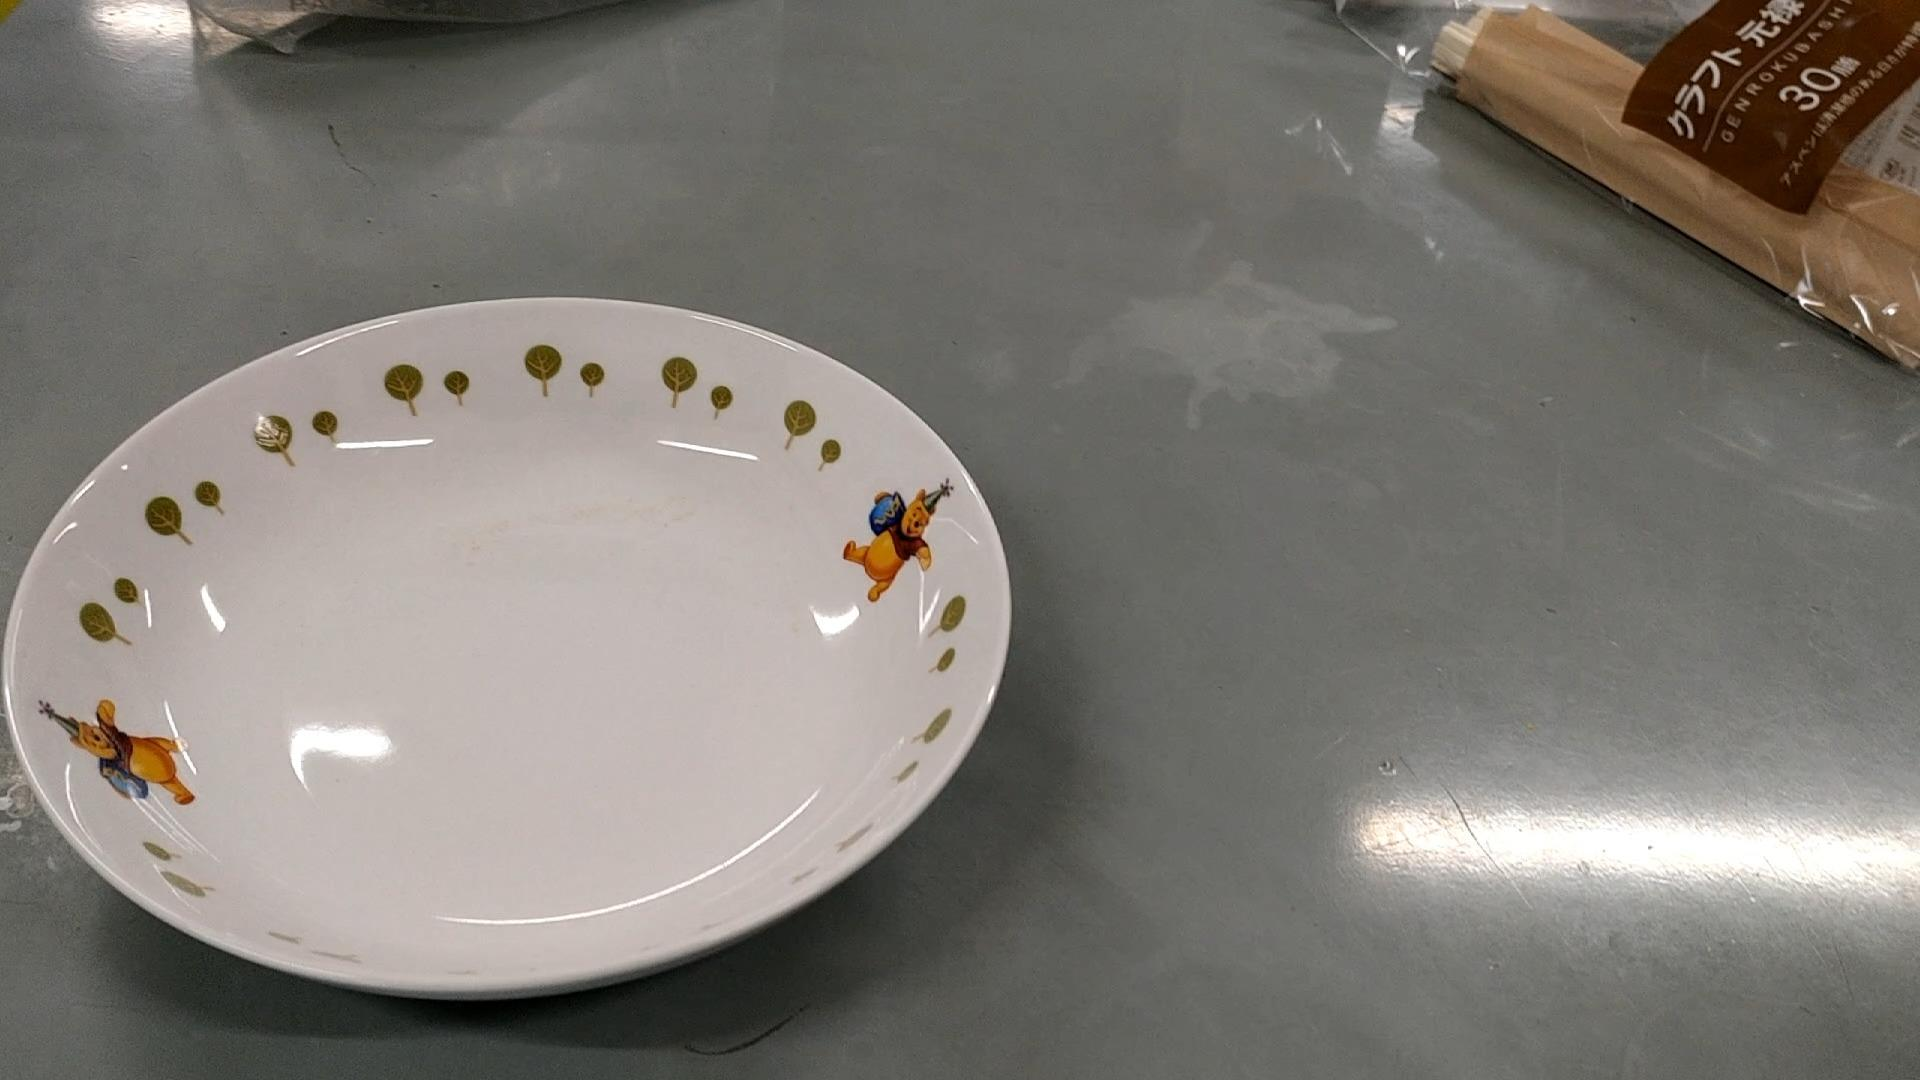plate: (0, 293, 1015, 1006)
